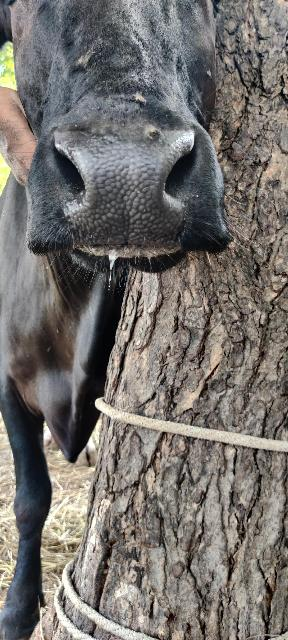Muzzle: (62, 134, 186, 242)
